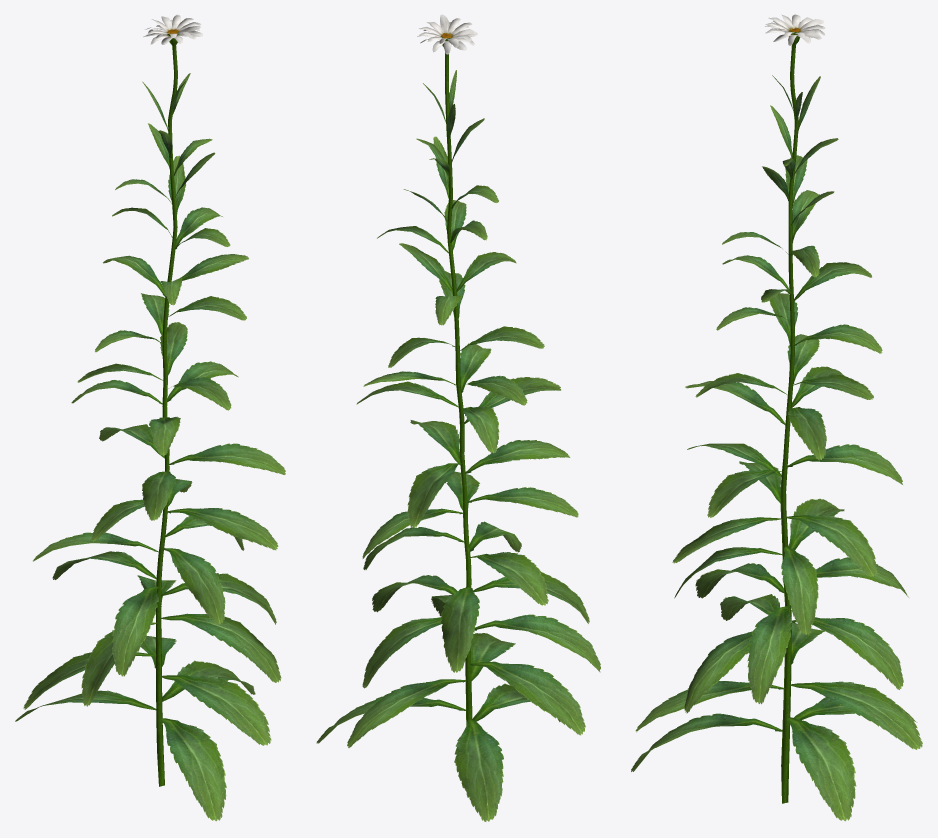
File: marguerite_01.fbx
3 views of the same model, side by side, from view 1: azimuth 30°, elevation 25°; view 2: azimuth 150°, elevation 25°; view 3: azimuth 270°, elevation 25° (orthographic). The views are drawn at different scales.
Visible parts, largest first — view 1: LOD0; view 2: LOD0; view 3: LOD0.
Boxes of the visible parts, left/top/right/bottom form: LOD0: left=15, top=14, right=285, bottom=821; LOD0: left=316, top=14, right=600, bottom=821; LOD0: left=631, top=14, right=922, bottom=821.
Size of what is drawn, in the model's own units: 1.06 by 3.09 by 1.04.
